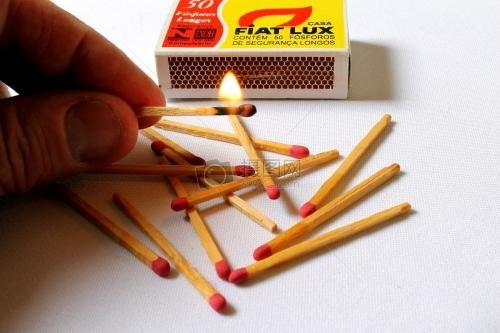fire: (215, 67, 246, 107)
